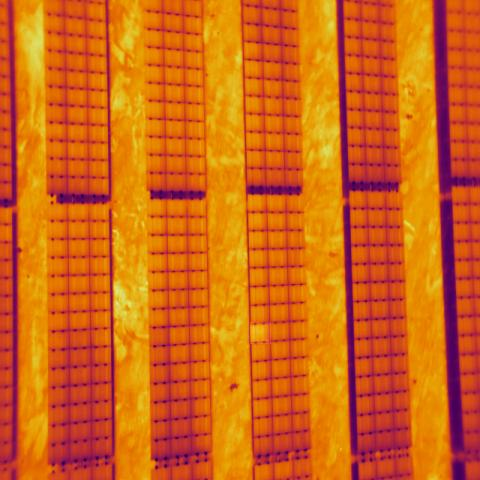fault: (250, 323, 271, 344)
